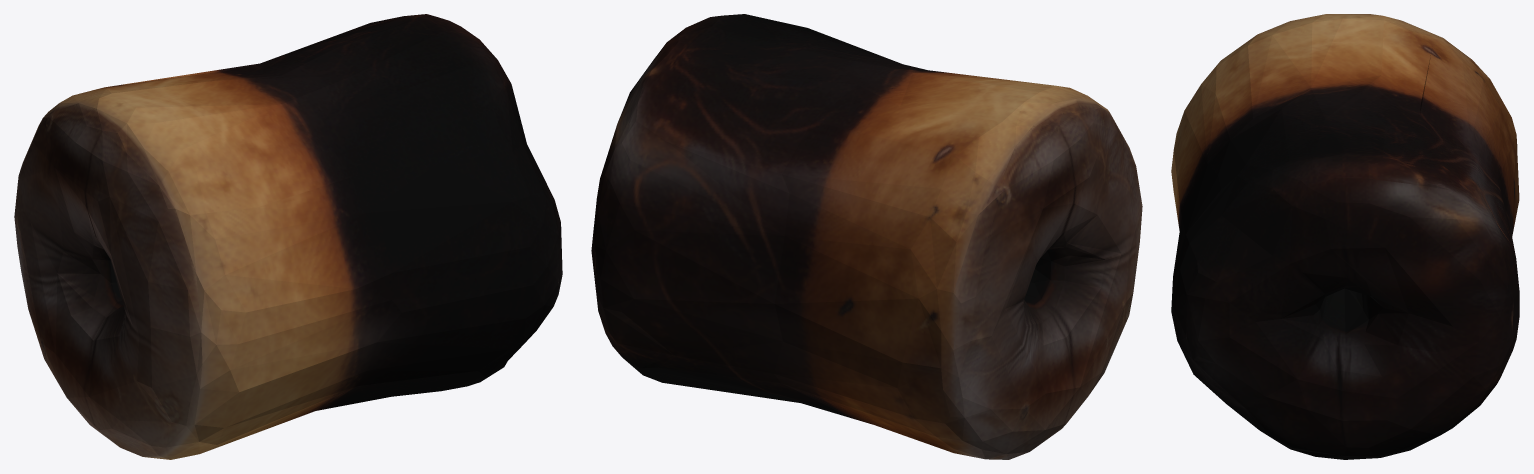
The model's file is animal_product_optimized.glb.
3 views of the same model, side by side, from view 1: azimuth 30°, elevation 25°; view 2: azimuth 150°, elevation 25°; view 3: azimuth 270°, elevation 25° (orthographic). The views are drawn at different scales.
Size of the model in its own units: 0.9984 by 0.7837 by 0.8196.
Materials: 1 (1 with a texture image).
